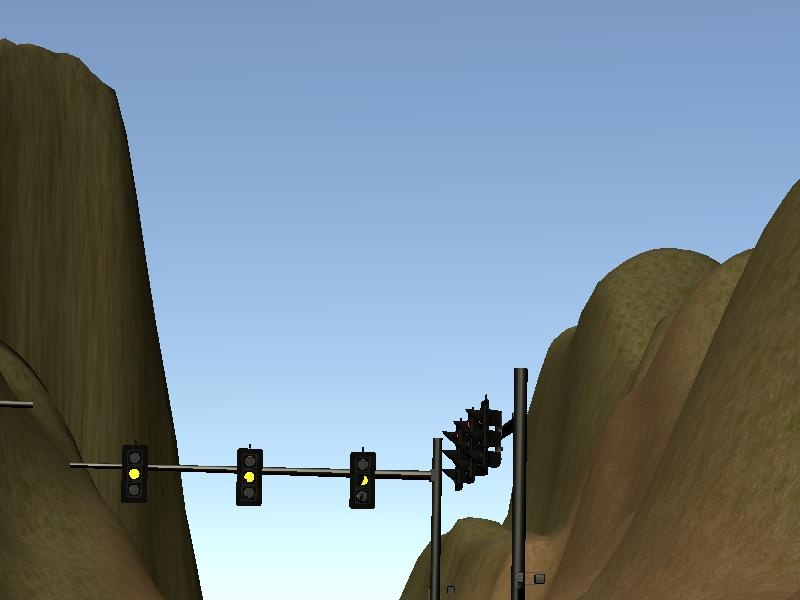yellow: (237, 449, 264, 507), (122, 445, 148, 504), (349, 452, 375, 509)
